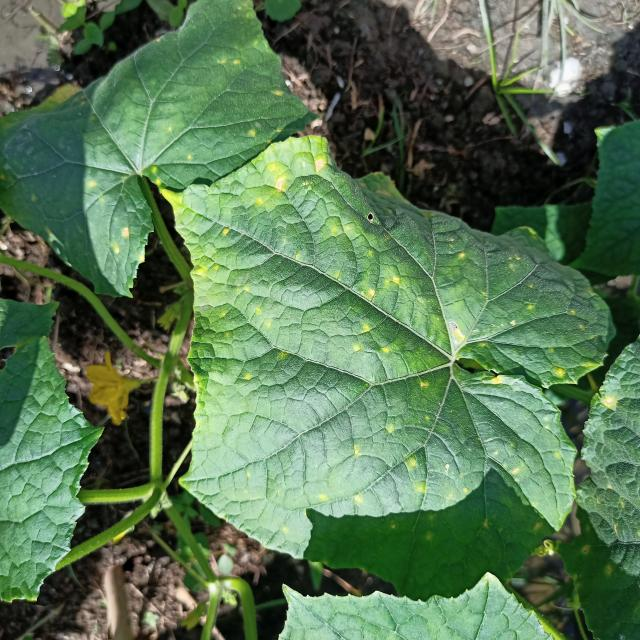disease_cucumber: (206, 151, 384, 329), (347, 430, 468, 551)
